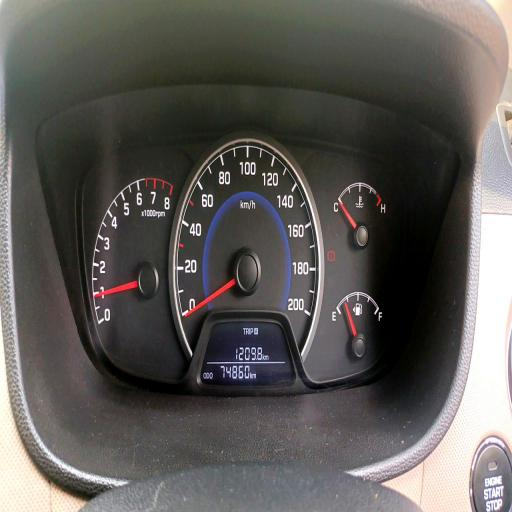brake_system_fault: (326, 250, 336, 262)
tachometer: (92, 176, 174, 350)
